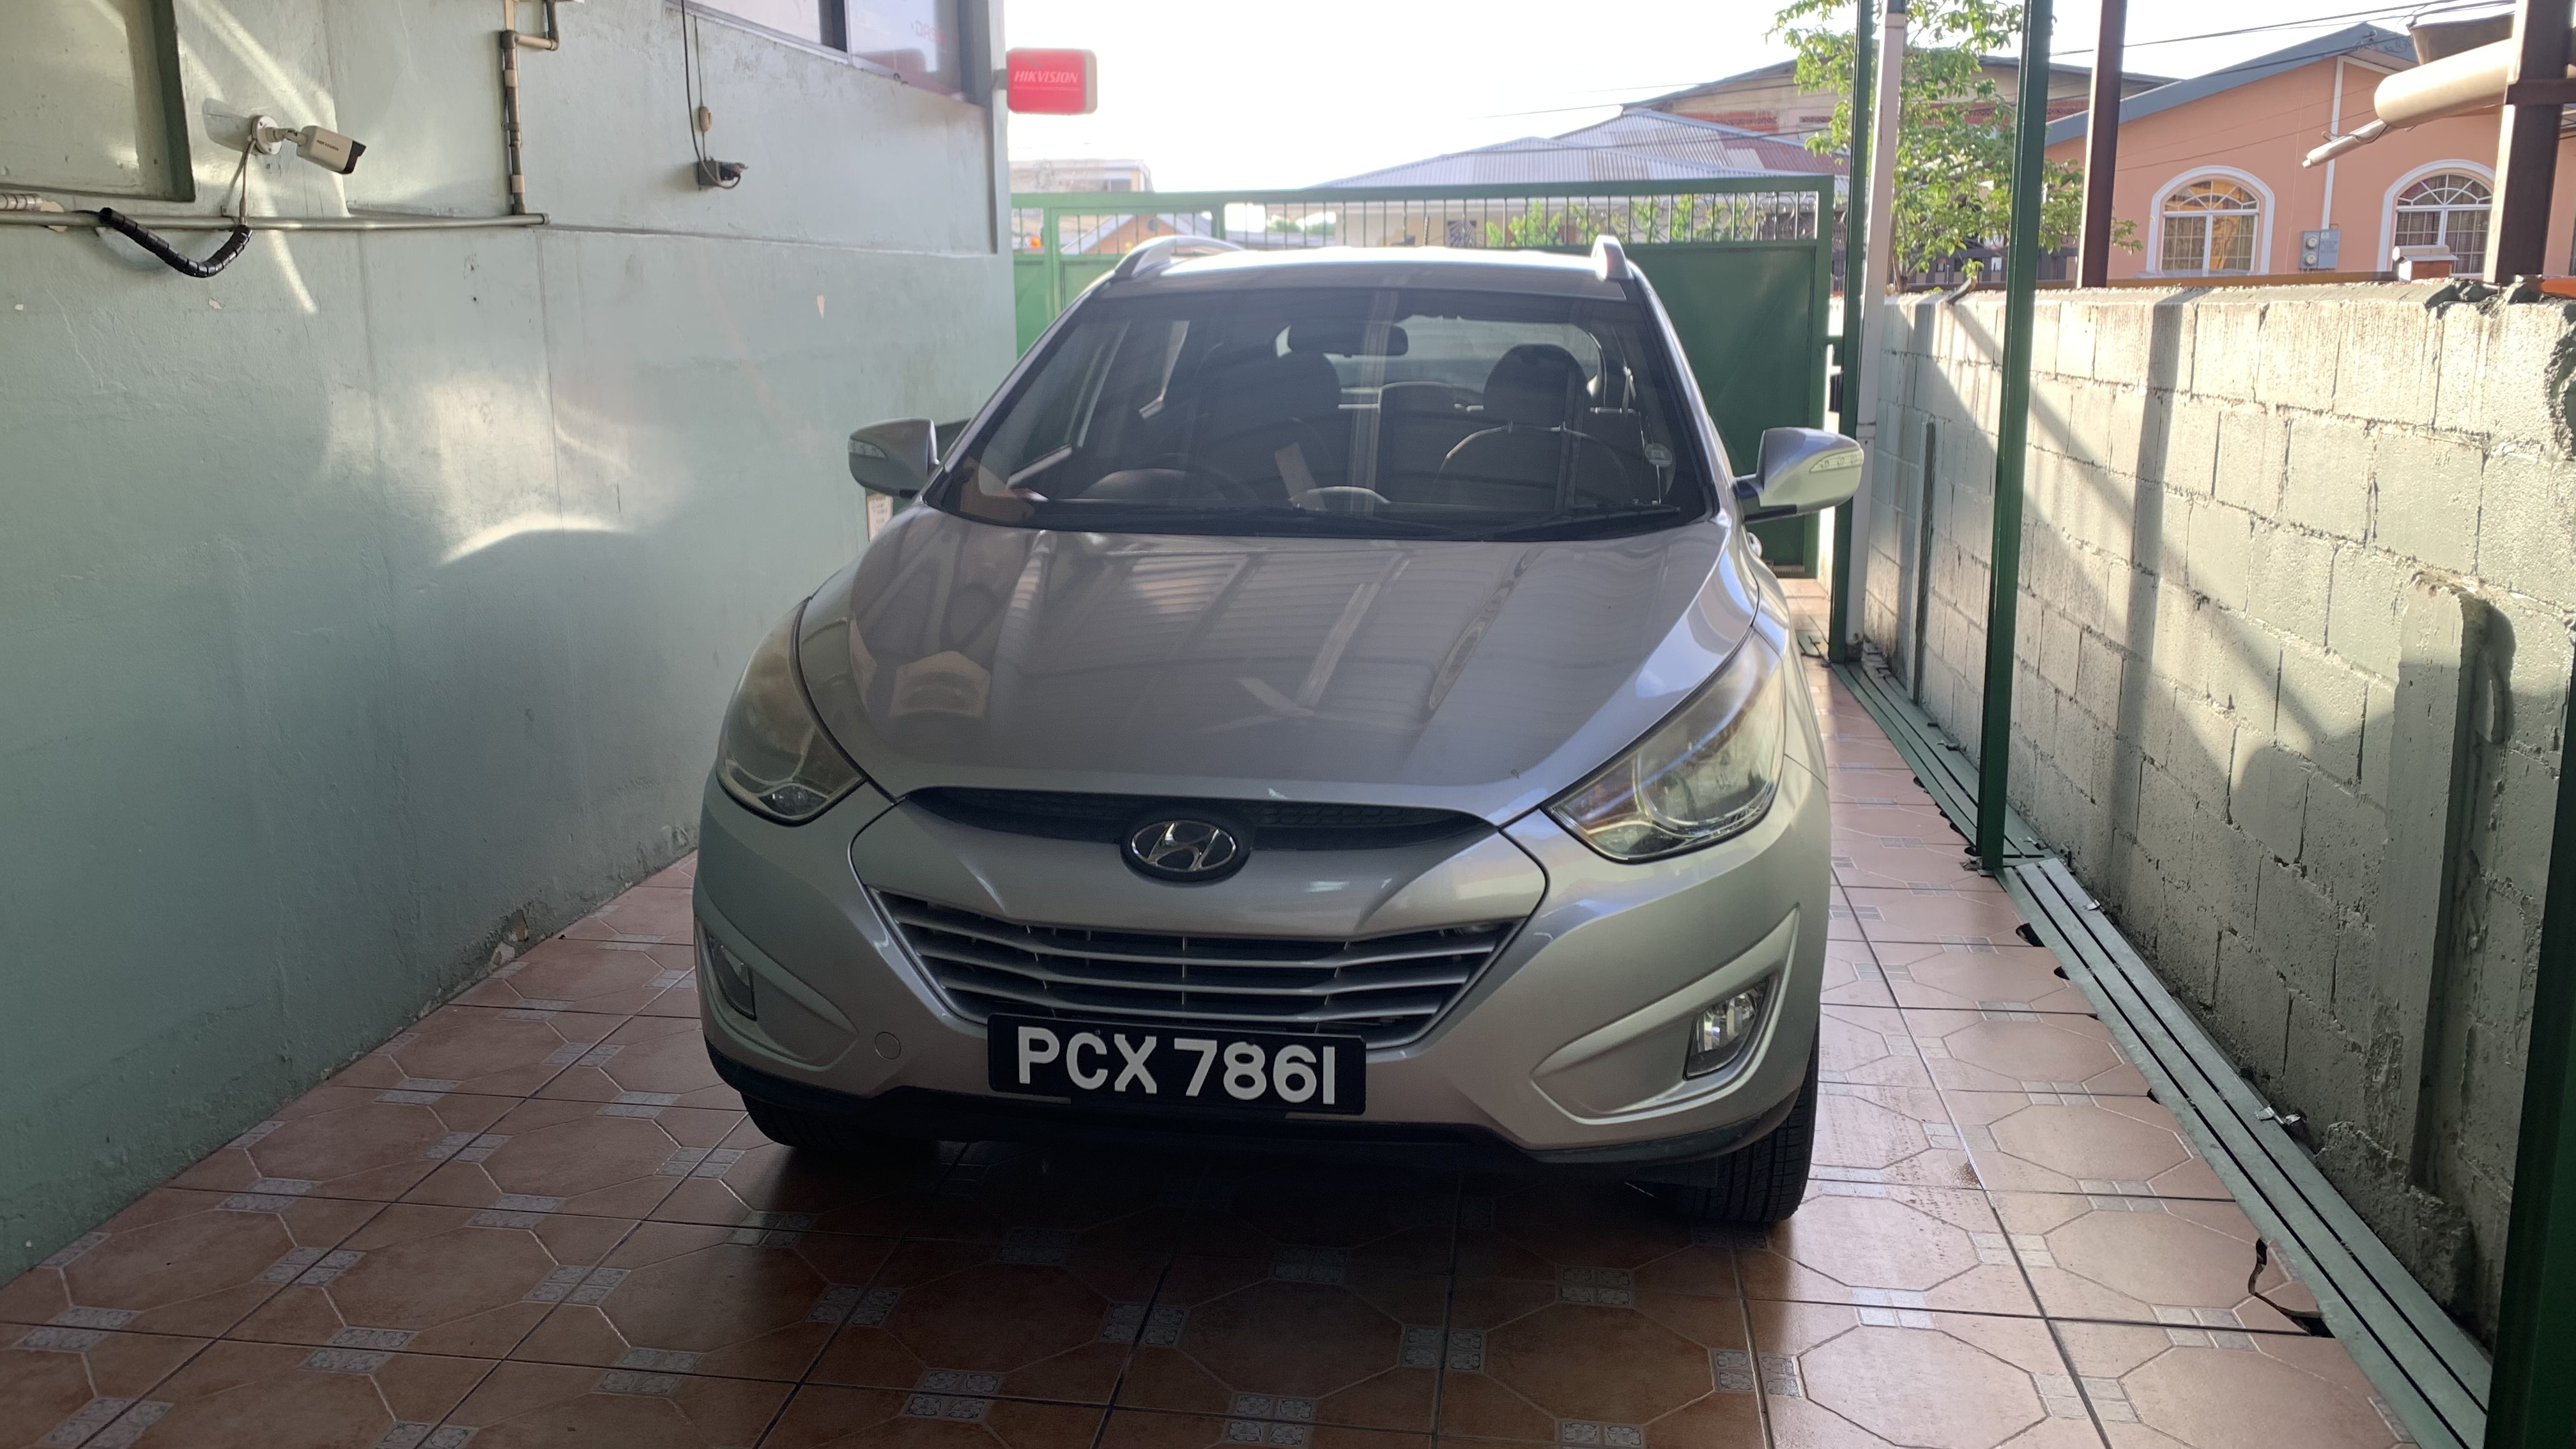License-Plate: (988, 1016, 1367, 1092)
